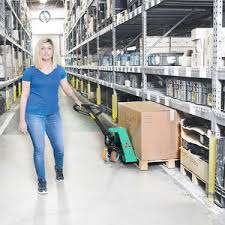Pallet Jack: (72, 95, 154, 177)
